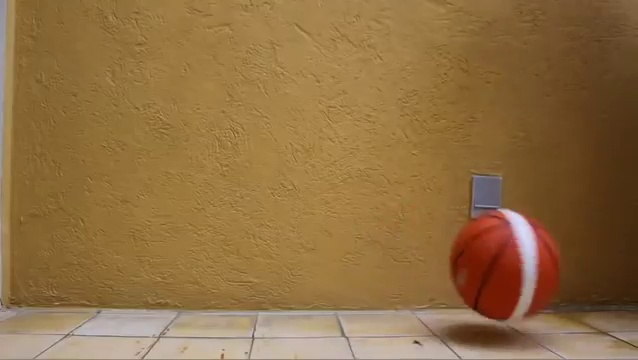ball: (450, 206, 565, 321)
